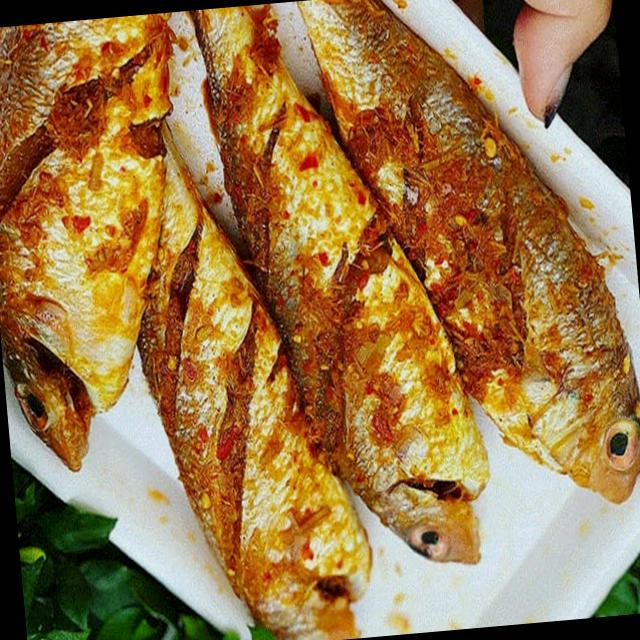ca chien: (297, 0, 640, 502), (193, 6, 489, 563), (138, 143, 372, 640), (0, 14, 172, 469)
